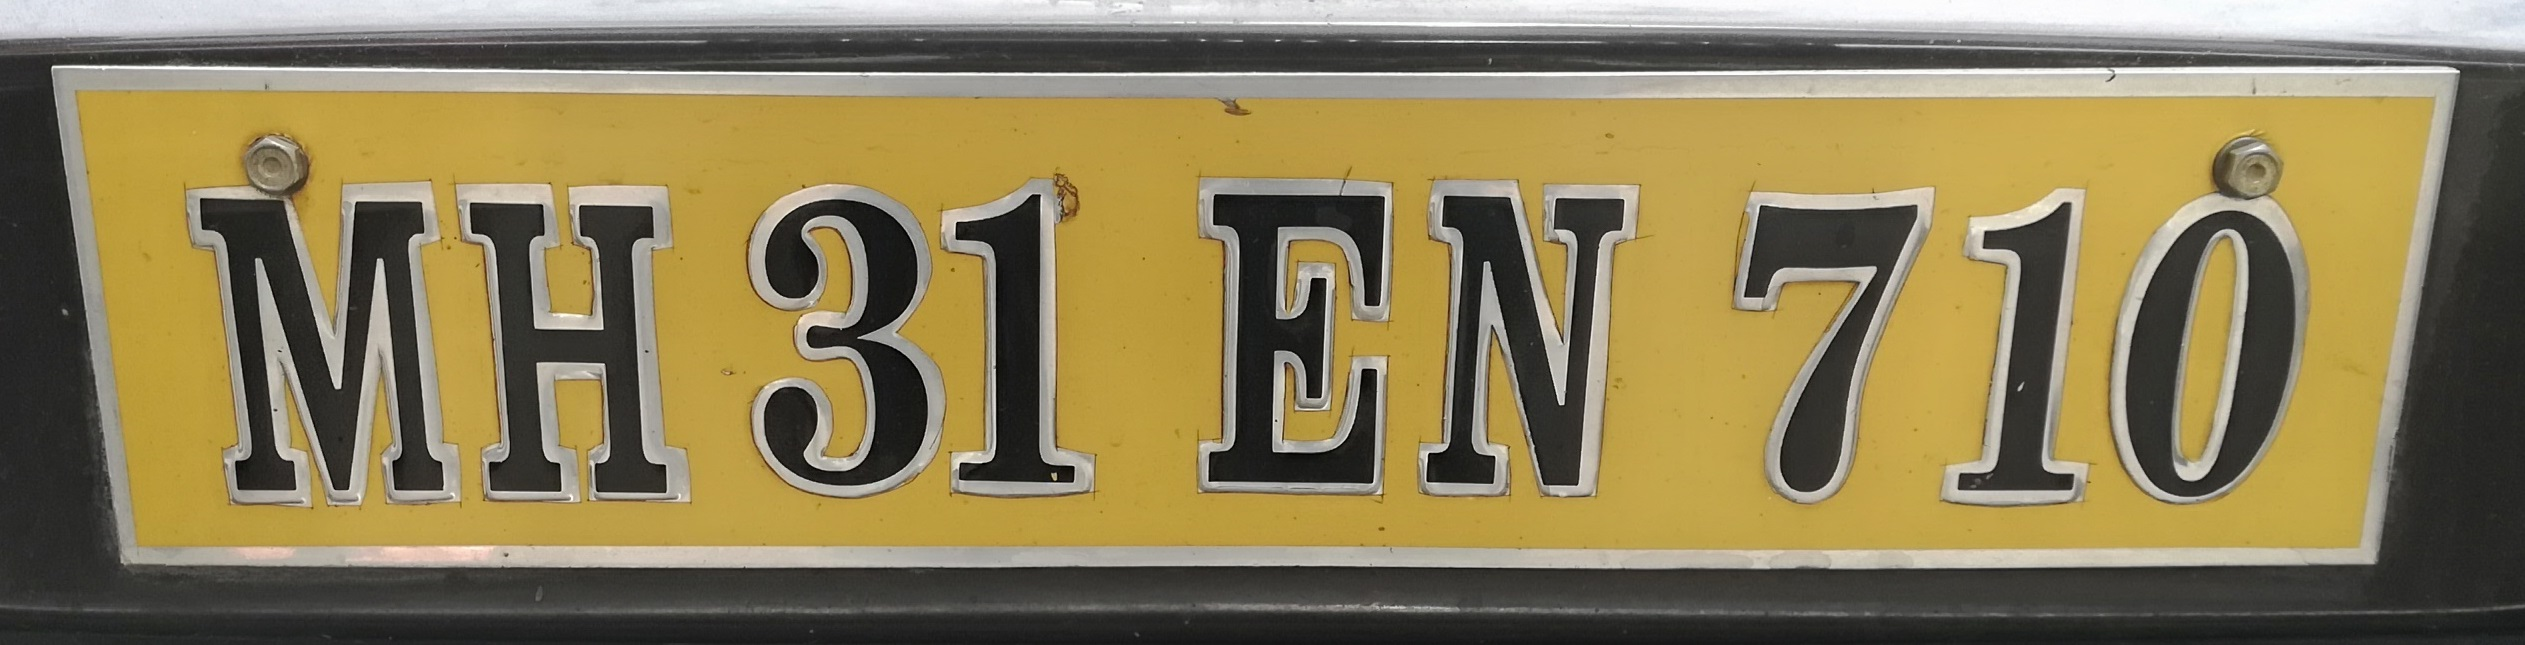numberplate: (37, 61, 2444, 579)
